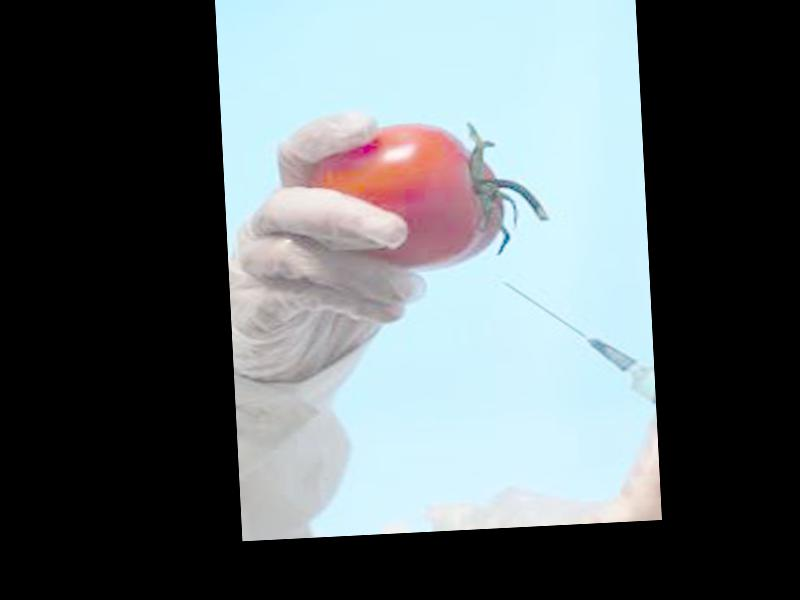Tomato: (306, 118, 505, 273)
